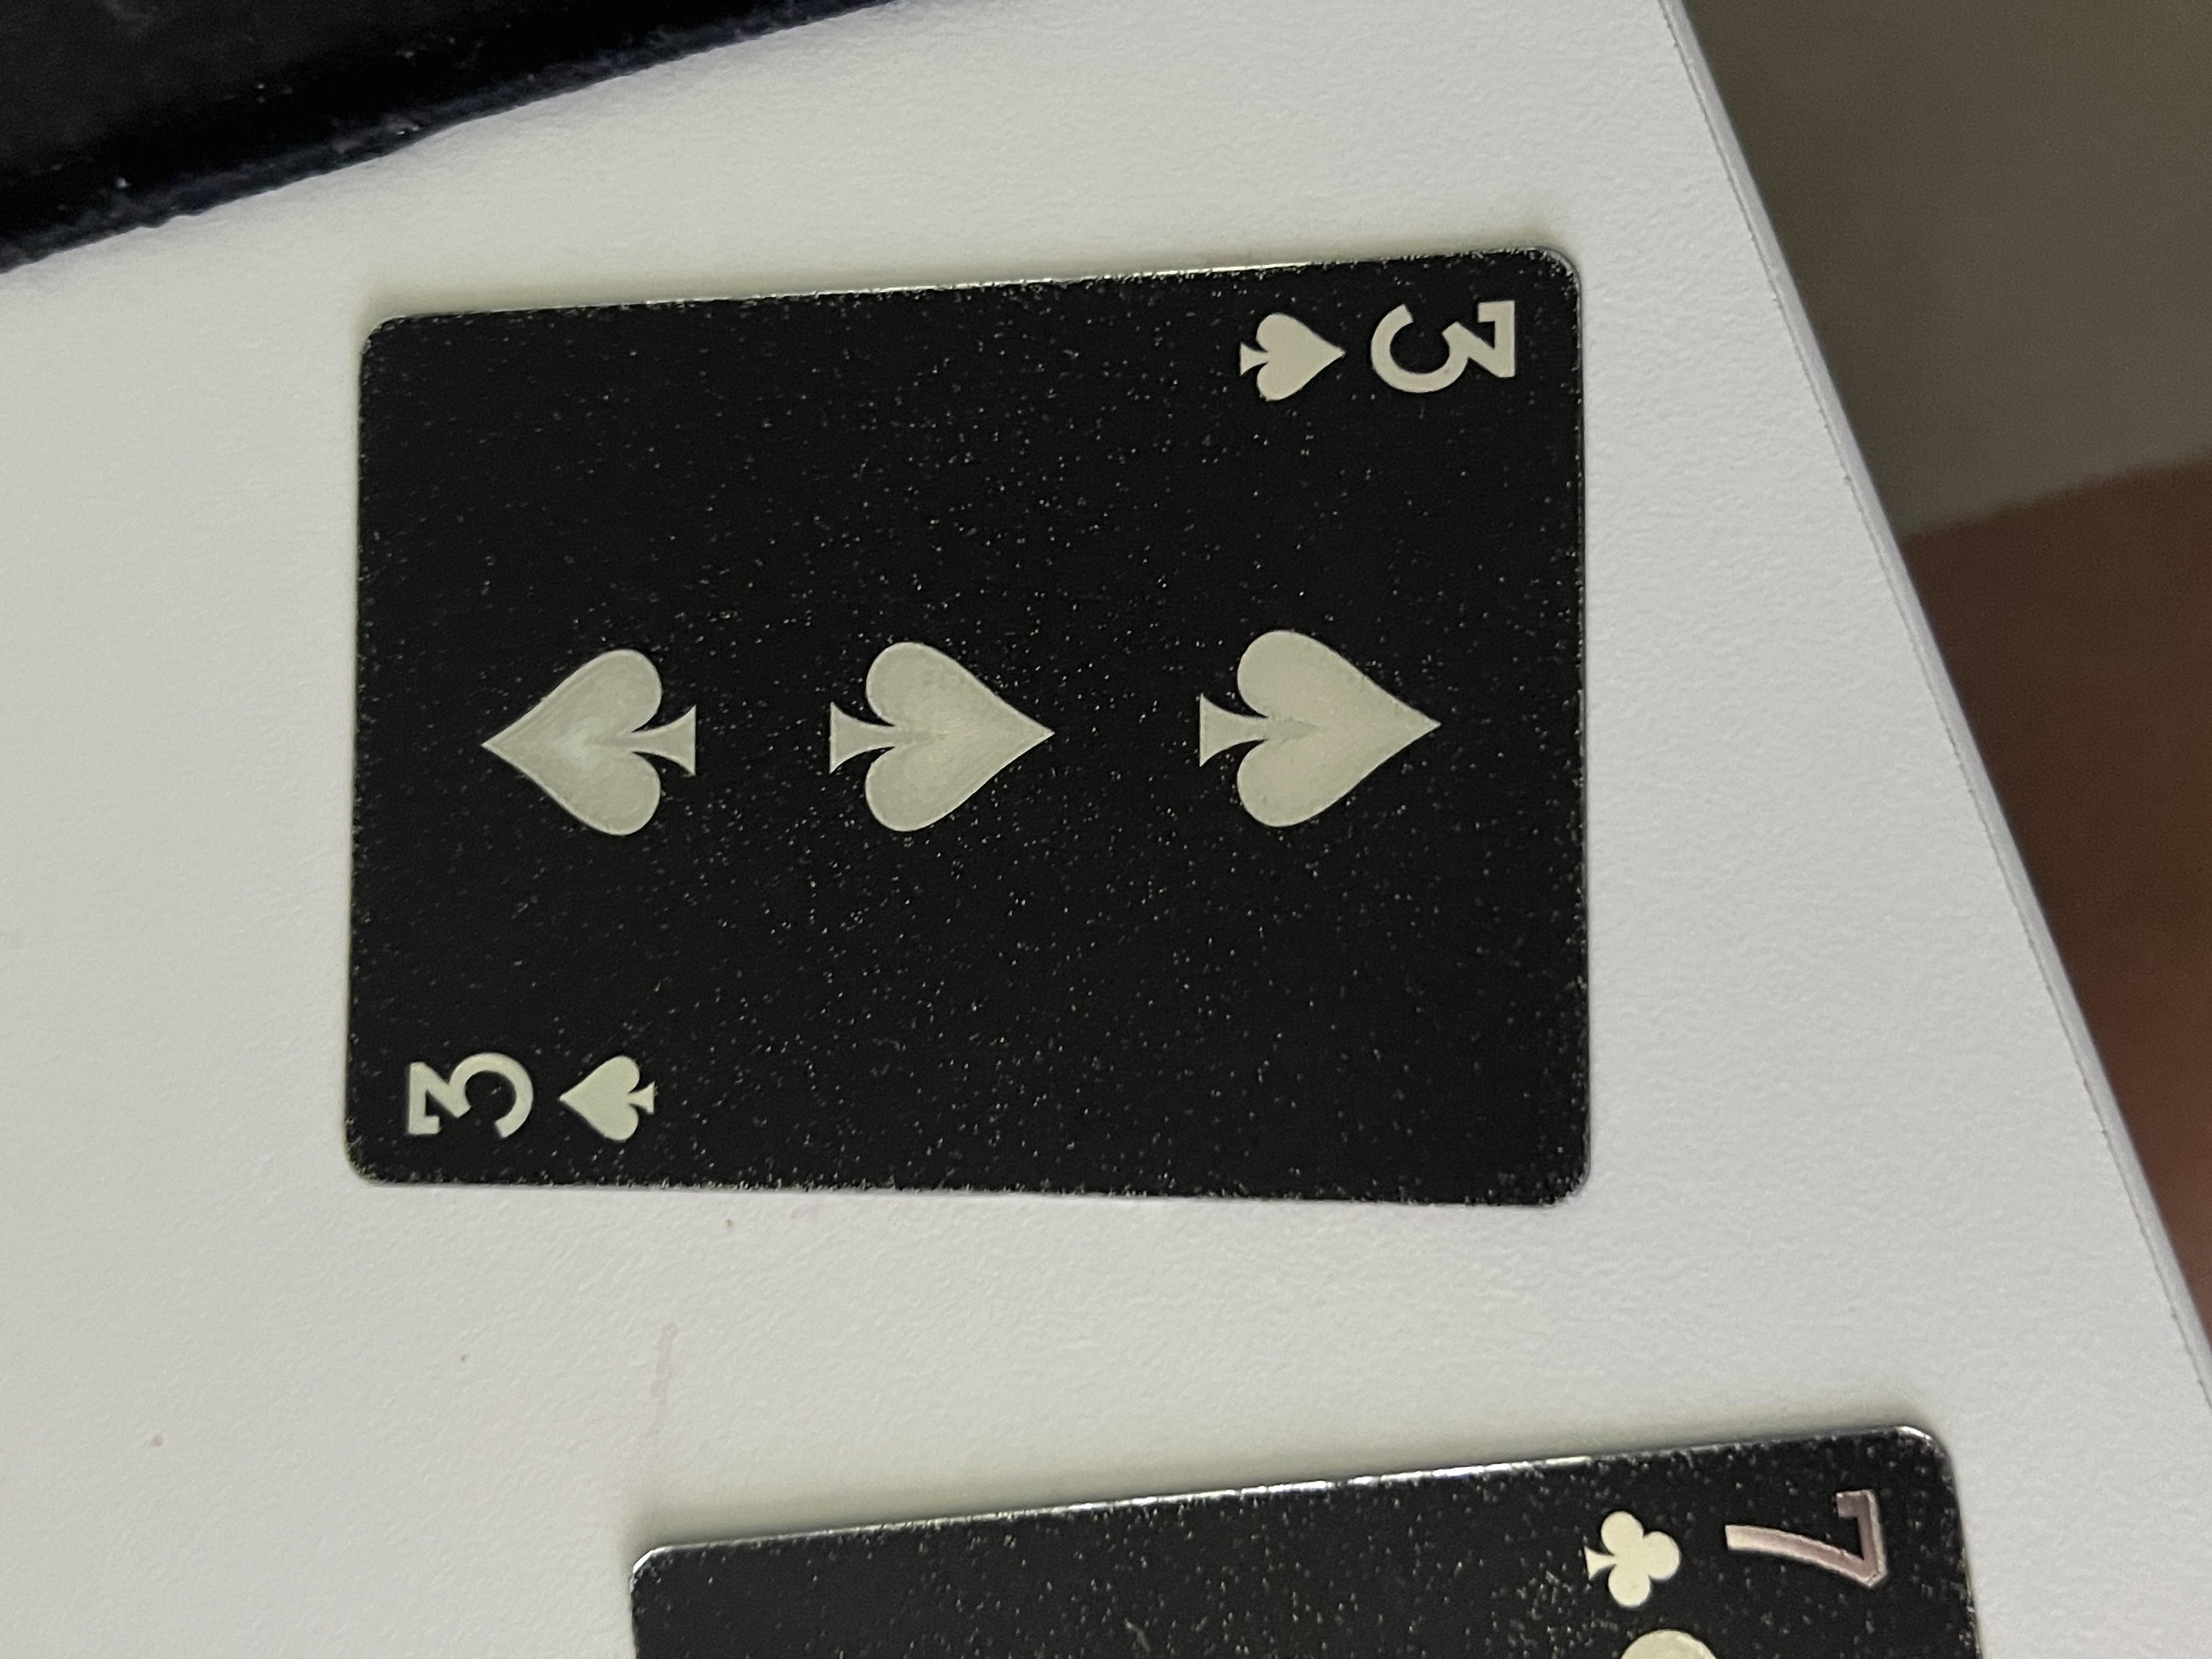3S: (1663, 922, 1846, 1150), (685, 295, 852, 509)
7C: (59, 1176, 270, 1429)
